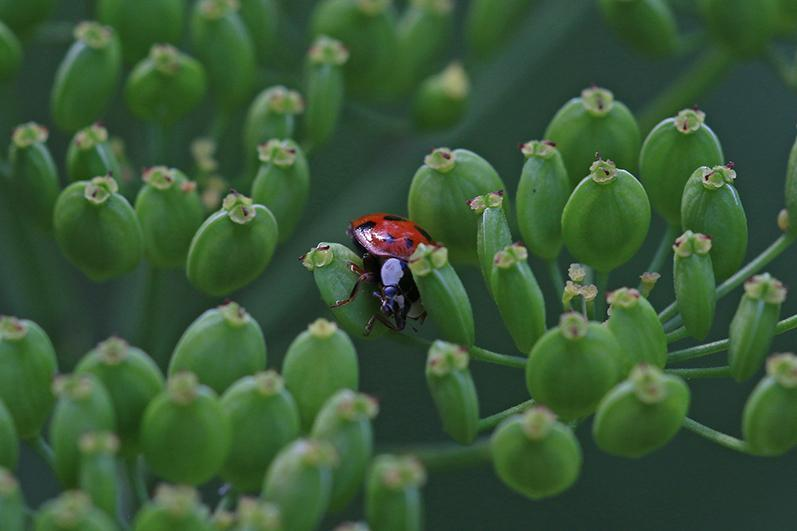ladybug: (328, 210, 442, 338)
